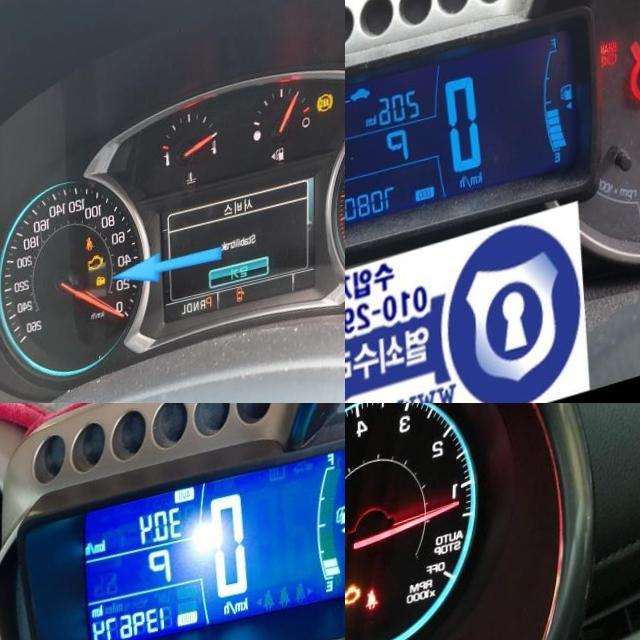Doors: (238, 301, 246, 315)
